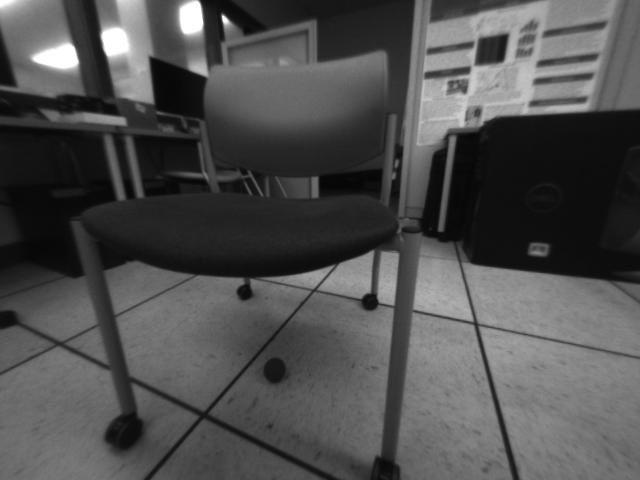dogtoy: (259, 354, 291, 387)
